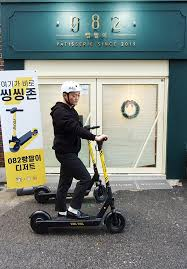kick_wheel: (30, 210, 50, 232), (105, 212, 124, 233), (34, 185, 50, 204), (94, 185, 106, 202)
